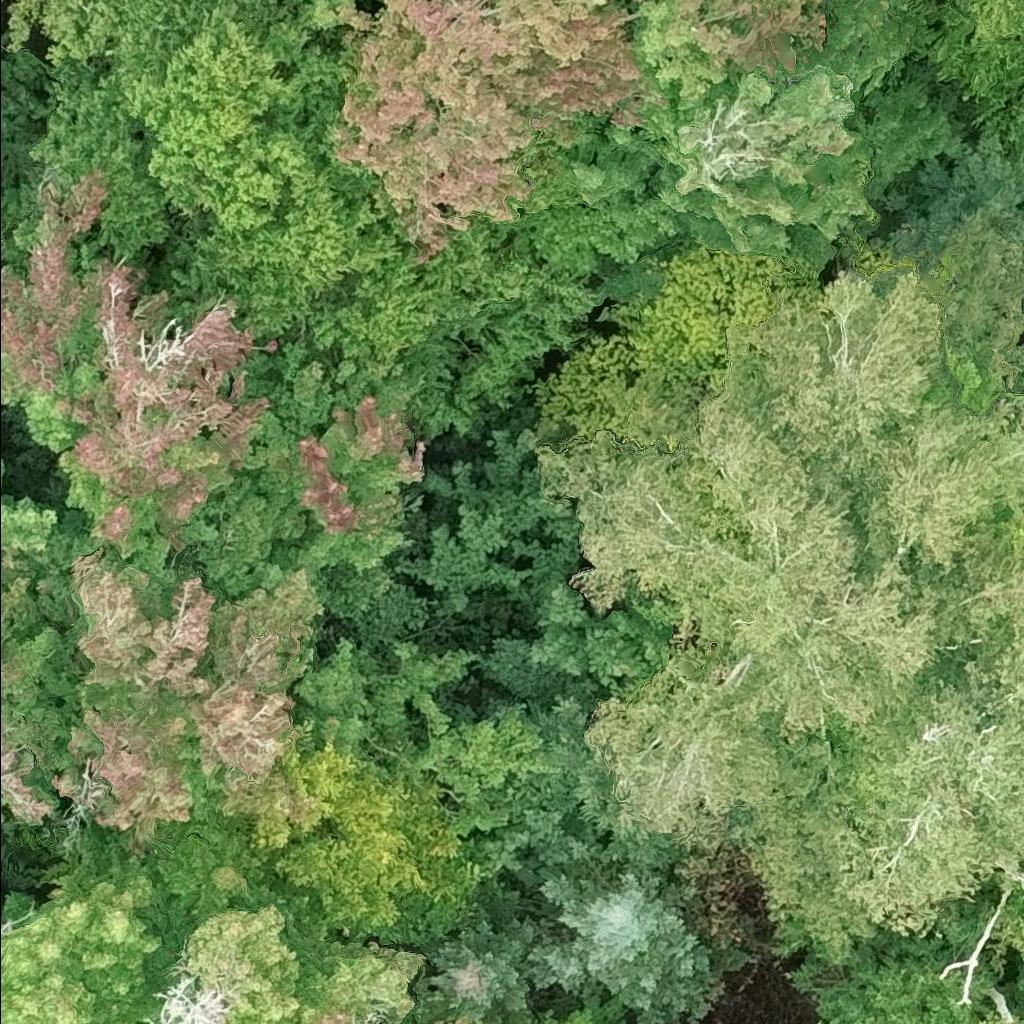crown: (540, 271, 1023, 858), (25, 0, 552, 367), (0, 170, 281, 563), (736, 616, 1023, 967), (326, 0, 668, 263), (49, 537, 328, 849), (606, 0, 876, 268), (166, 357, 425, 597), (525, 840, 721, 1023), (0, 460, 90, 762), (0, 859, 164, 1023), (393, 886, 540, 1023), (914, 0, 1023, 134), (189, 896, 304, 1023), (784, 952, 982, 1023), (284, 933, 428, 1023), (825, 0, 933, 100), (0, 704, 59, 823), (7, 0, 103, 66), (293, 0, 375, 29), (1000, 891, 1023, 954), (0, 659, 17, 694), (979, 1010, 1023, 1023), (1004, 524, 1023, 551)
